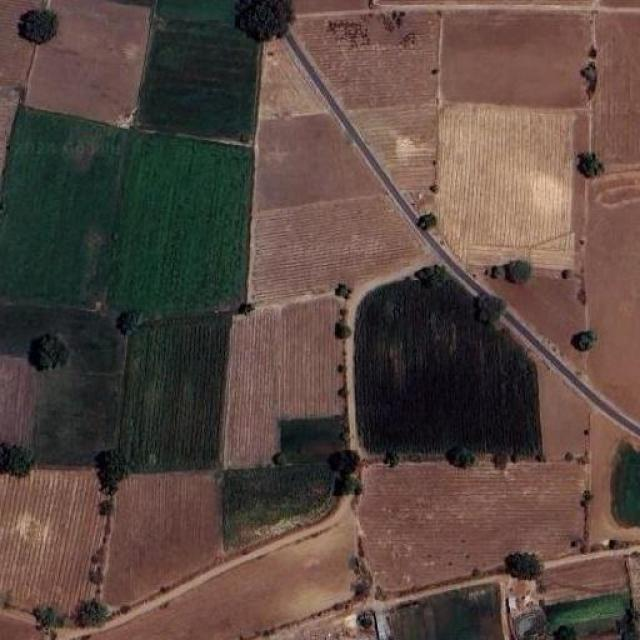land-Sx1C: (59, 496, 354, 639), (355, 276, 540, 456), (359, 461, 582, 595), (439, 104, 602, 284), (110, 131, 251, 312), (0, 109, 125, 304), (222, 296, 344, 467), (0, 302, 125, 464), (251, 198, 432, 302), (119, 314, 230, 471), (25, 0, 150, 127), (104, 472, 221, 604), (0, 469, 104, 612), (136, 21, 259, 141), (295, 10, 438, 109), (585, 162, 640, 418), (585, 164, 640, 419), (441, 14, 590, 107), (255, 114, 382, 210), (222, 464, 334, 549), (222, 309, 279, 467), (491, 279, 587, 372), (352, 105, 436, 198), (280, 298, 344, 418), (0, 0, 42, 181), (589, 409, 640, 543), (388, 584, 504, 640), (596, 14, 640, 160), (596, 15, 640, 160), (261, 39, 329, 121), (538, 362, 589, 461), (544, 594, 635, 640), (542, 558, 628, 604), (0, 355, 36, 446), (280, 416, 345, 463), (611, 442, 640, 526), (156, 0, 234, 23), (0, 610, 40, 640)
